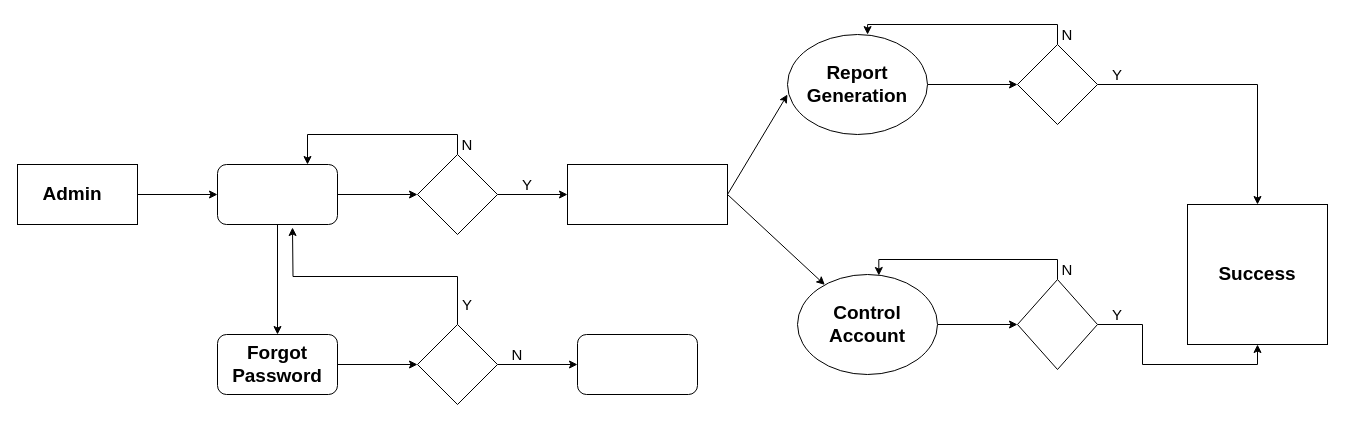
Some shapes in this 1345 by 422 pixel diagram are drawn without their labels. Each missing label, with the centre of its shape:
Admin Home Page: the point at 647,194
Error Page: the point at 637,364
Login: the point at 277,194
